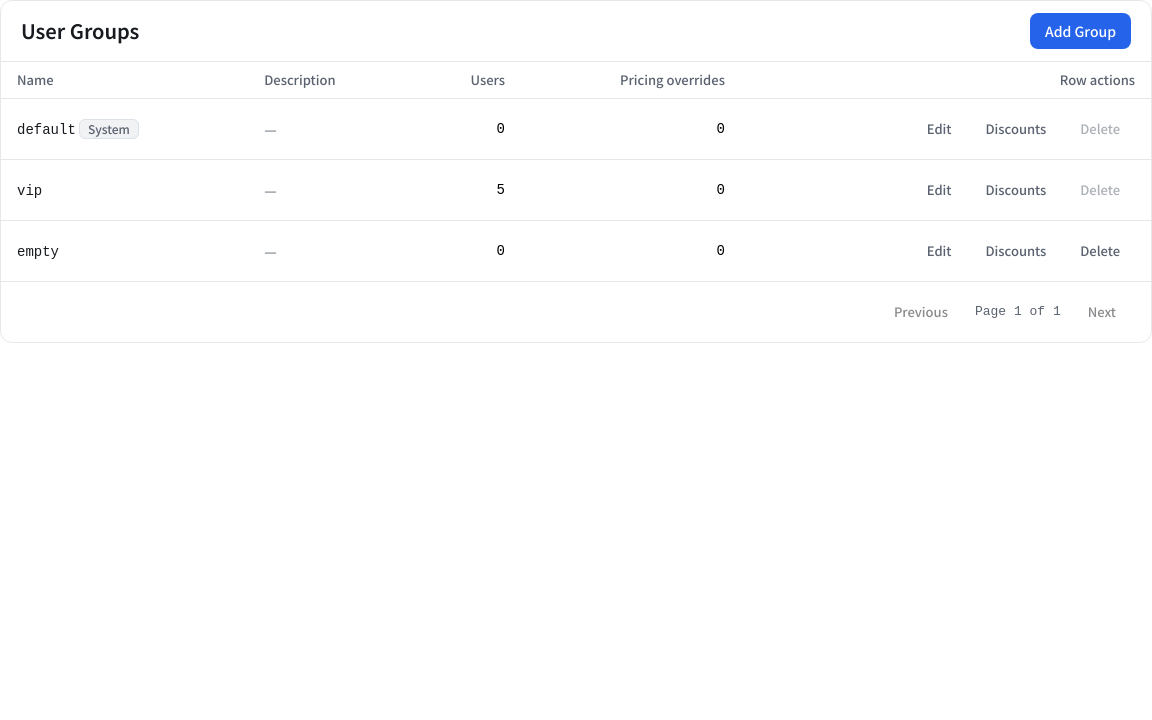
Test case: GroupListPage reference guard (I9/R-38) › disables delete for referenced groups and explains the 409 semantics
The width and height of the screenshot is (1152, 720).
Check: the button "Delete" in the row of "vip" is disabled, box [1065, 172, 1135, 208]
Click the button "Delete" in the row of "empty": (1100, 251) [1065, 233, 1135, 269]
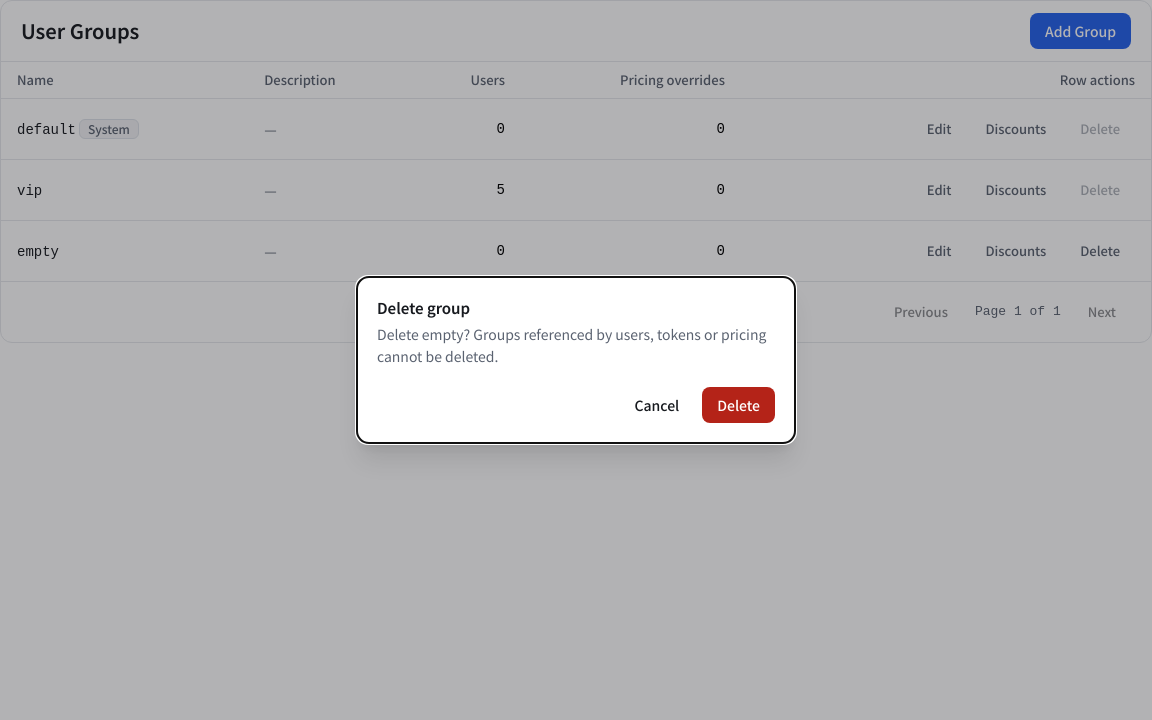
Check: the dialog shows "Groups referenced by users, tokens or pricing cannot be deleted", box [377, 324, 766, 366]
